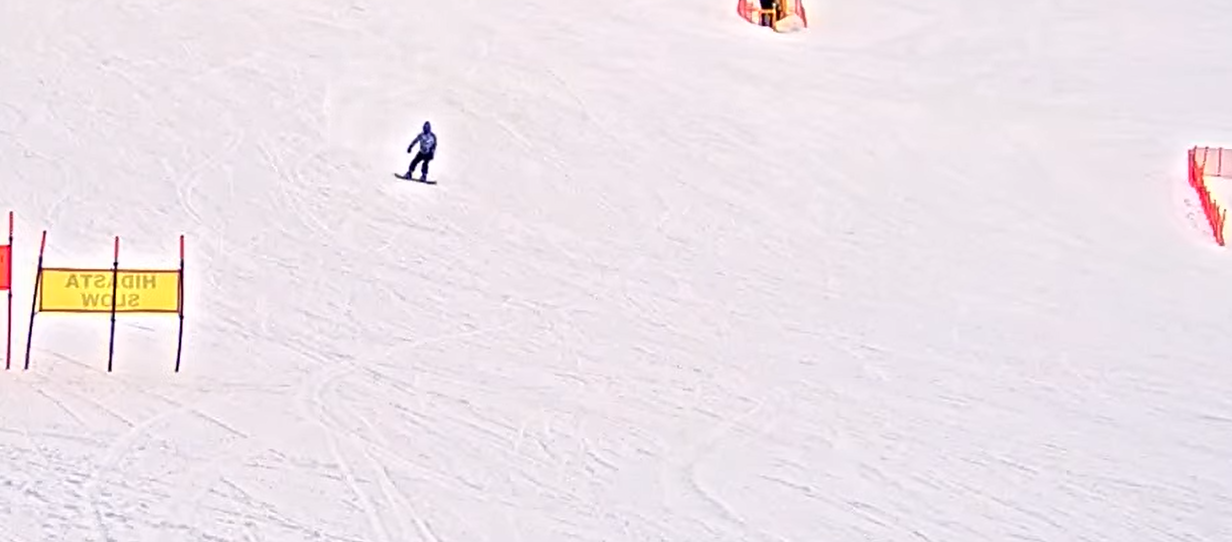snowboarder: (393, 120, 436, 185)
